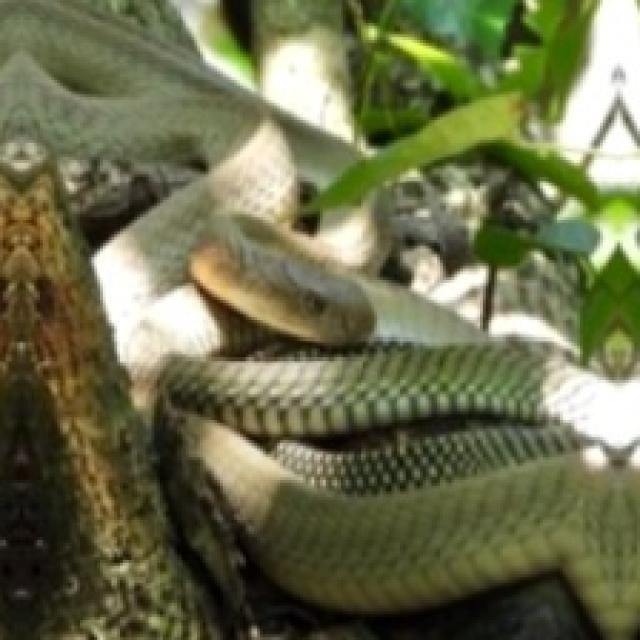king cobra: (157, 214, 637, 637)
